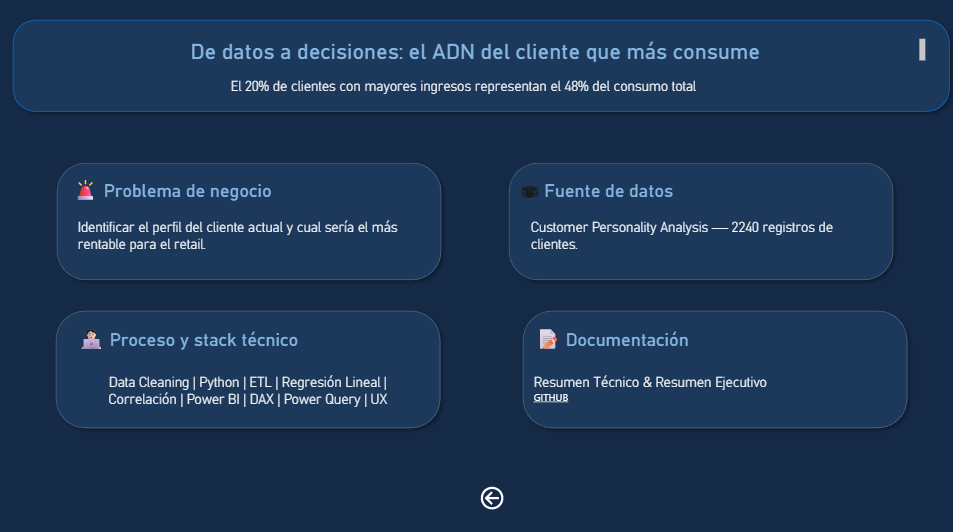

Layout of this report page (visuals, bound fields, positions):
{"tool":"powerbi","page":{"name":"Descripción","canvas":[1280,720],"ordinal":1},"visuals":[{"type":"shape","title":"Efectividad de campañas de marketing bancario: de datos a decisiones","box":[10.3,20.6,1269.6,141.1],"z":0},{"type":"textbox","box":[38.2,50,1204.9,41.1],"z":1},{"type":"textbox","box":[305.6,101.4,665.6,33.8],"z":2},{"type":"shape","box":[69.2,210.6,531.8,174.8],"z":3},{"type":"textbox","box":[93.1,233,283.8,52.3],"z":4},{"type":"textbox","box":[102.1,290,464.6,58.3],"z":5},{"type":"shape","box":[673.7,210.6,531.8,174.8],"z":6},{"type":"textbox","box":[691.6,233,283.8,52.3],"z":7},{"type":"textbox","box":[706.6,289.8,464.6,58.3],"z":8},{"type":"shape","box":[68.7,409.3,531.8,174.8],"z":9},{"type":"textbox","box":[101.6,431.7,346.6,52.3],"z":10},{"type":"textbox","box":[101.6,497.4,464.6,58.3],"z":11},{"type":"shape","box":[691.6,409.3,531.8,174.8],"z":12},{"type":"textbox","box":[710.6,431.2,346.6,52.3],"z":13},{"type":"textbox","box":[710.6,497,464.6,58.3],"z":14},{"type":"actionButton","box":[639.3,648.3,100.1,40.3],"z":15}]}

Visuals, with their boxes in screenshot pixels (x1, y1, x2, y2), scaled from the page's 1280x720 canvas onto the 953x532 screenshot:
"Efectividad de campañas de marketing bancario: de datos a decisiones" shape: crop(8, 15, 952, 119)
textbox: crop(28, 37, 926, 67)
textbox: crop(228, 75, 723, 100)
shape: crop(52, 156, 447, 285)
textbox: crop(69, 172, 281, 211)
textbox: crop(76, 214, 422, 257)
shape: crop(502, 156, 898, 285)
textbox: crop(515, 172, 726, 211)
textbox: crop(526, 214, 872, 257)
shape: crop(51, 302, 447, 432)
textbox: crop(76, 319, 334, 358)
textbox: crop(76, 368, 422, 411)
shape: crop(515, 302, 911, 432)
textbox: crop(529, 319, 787, 357)
textbox: crop(529, 367, 875, 410)
actionButton: crop(476, 479, 551, 509)
